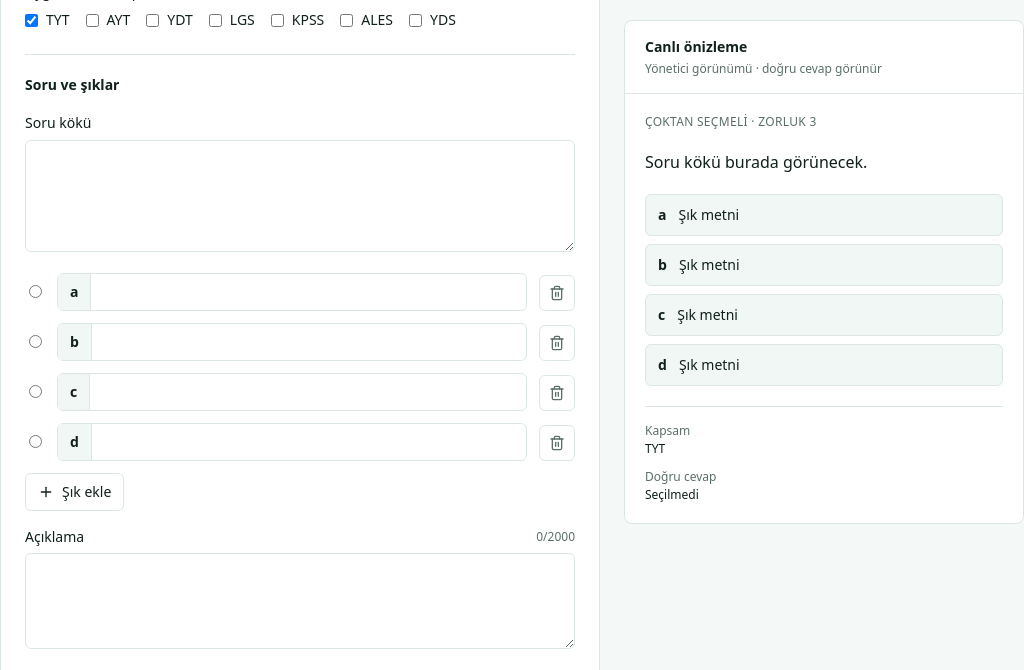
multiple choice create editor › adds a unique option and clears the answer when its option is removed
(page scrolled)
Click the button "Şık ekle" at (75, 492), box [25,473,124,511]
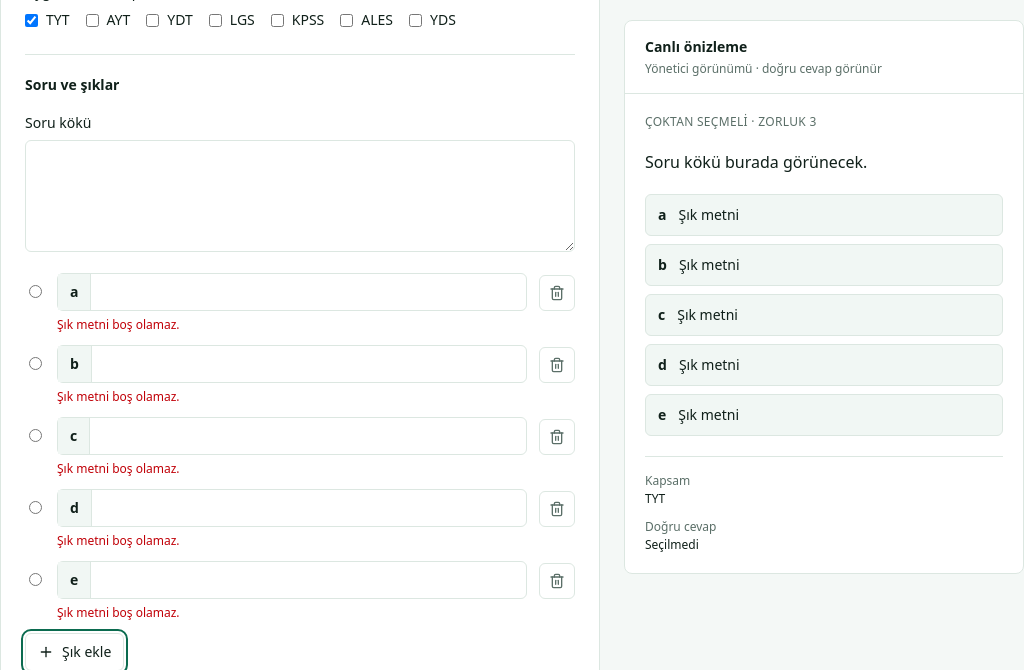
Check: the field named "e şıkkı metni" is shown, box [91,562,526,598]
Click the radio button named "b şıkkını doğru cevap seç" at (35, 363), box [28,356,42,370]
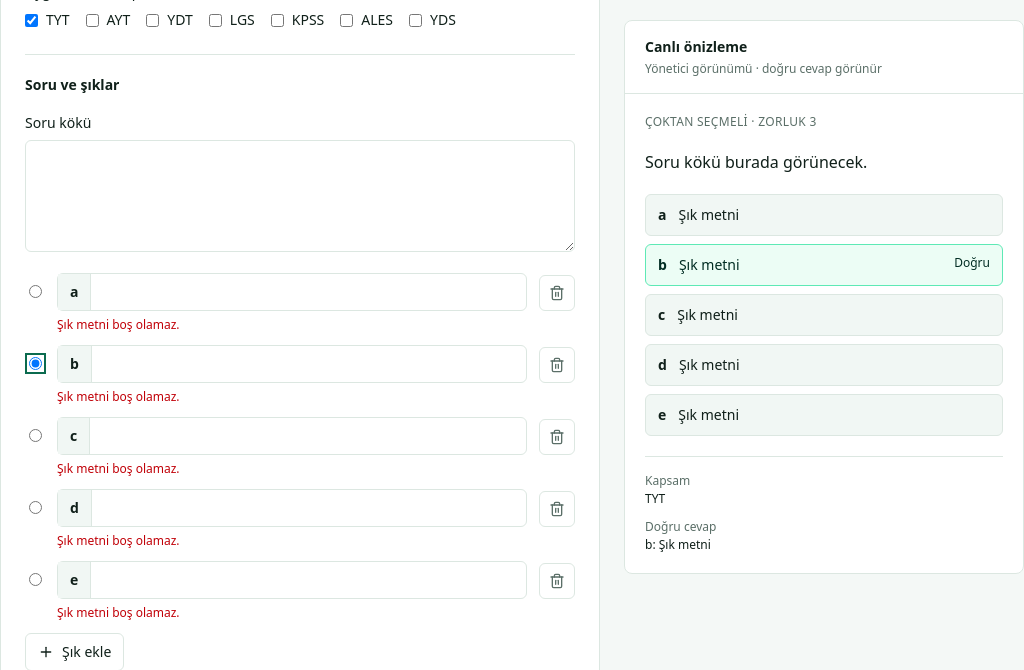
Click the button named "b şıkkını kaldır" at (557, 365), box [539,347,575,383]
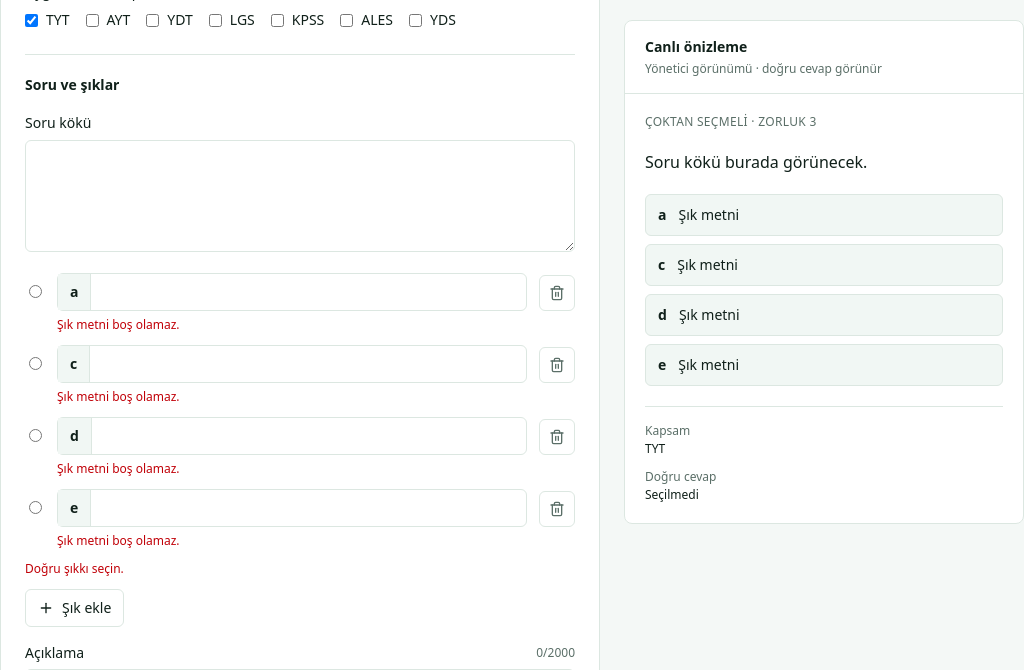
Check: the text "Doğru şıkkı seçin." is shown, box [25,560,124,577]
